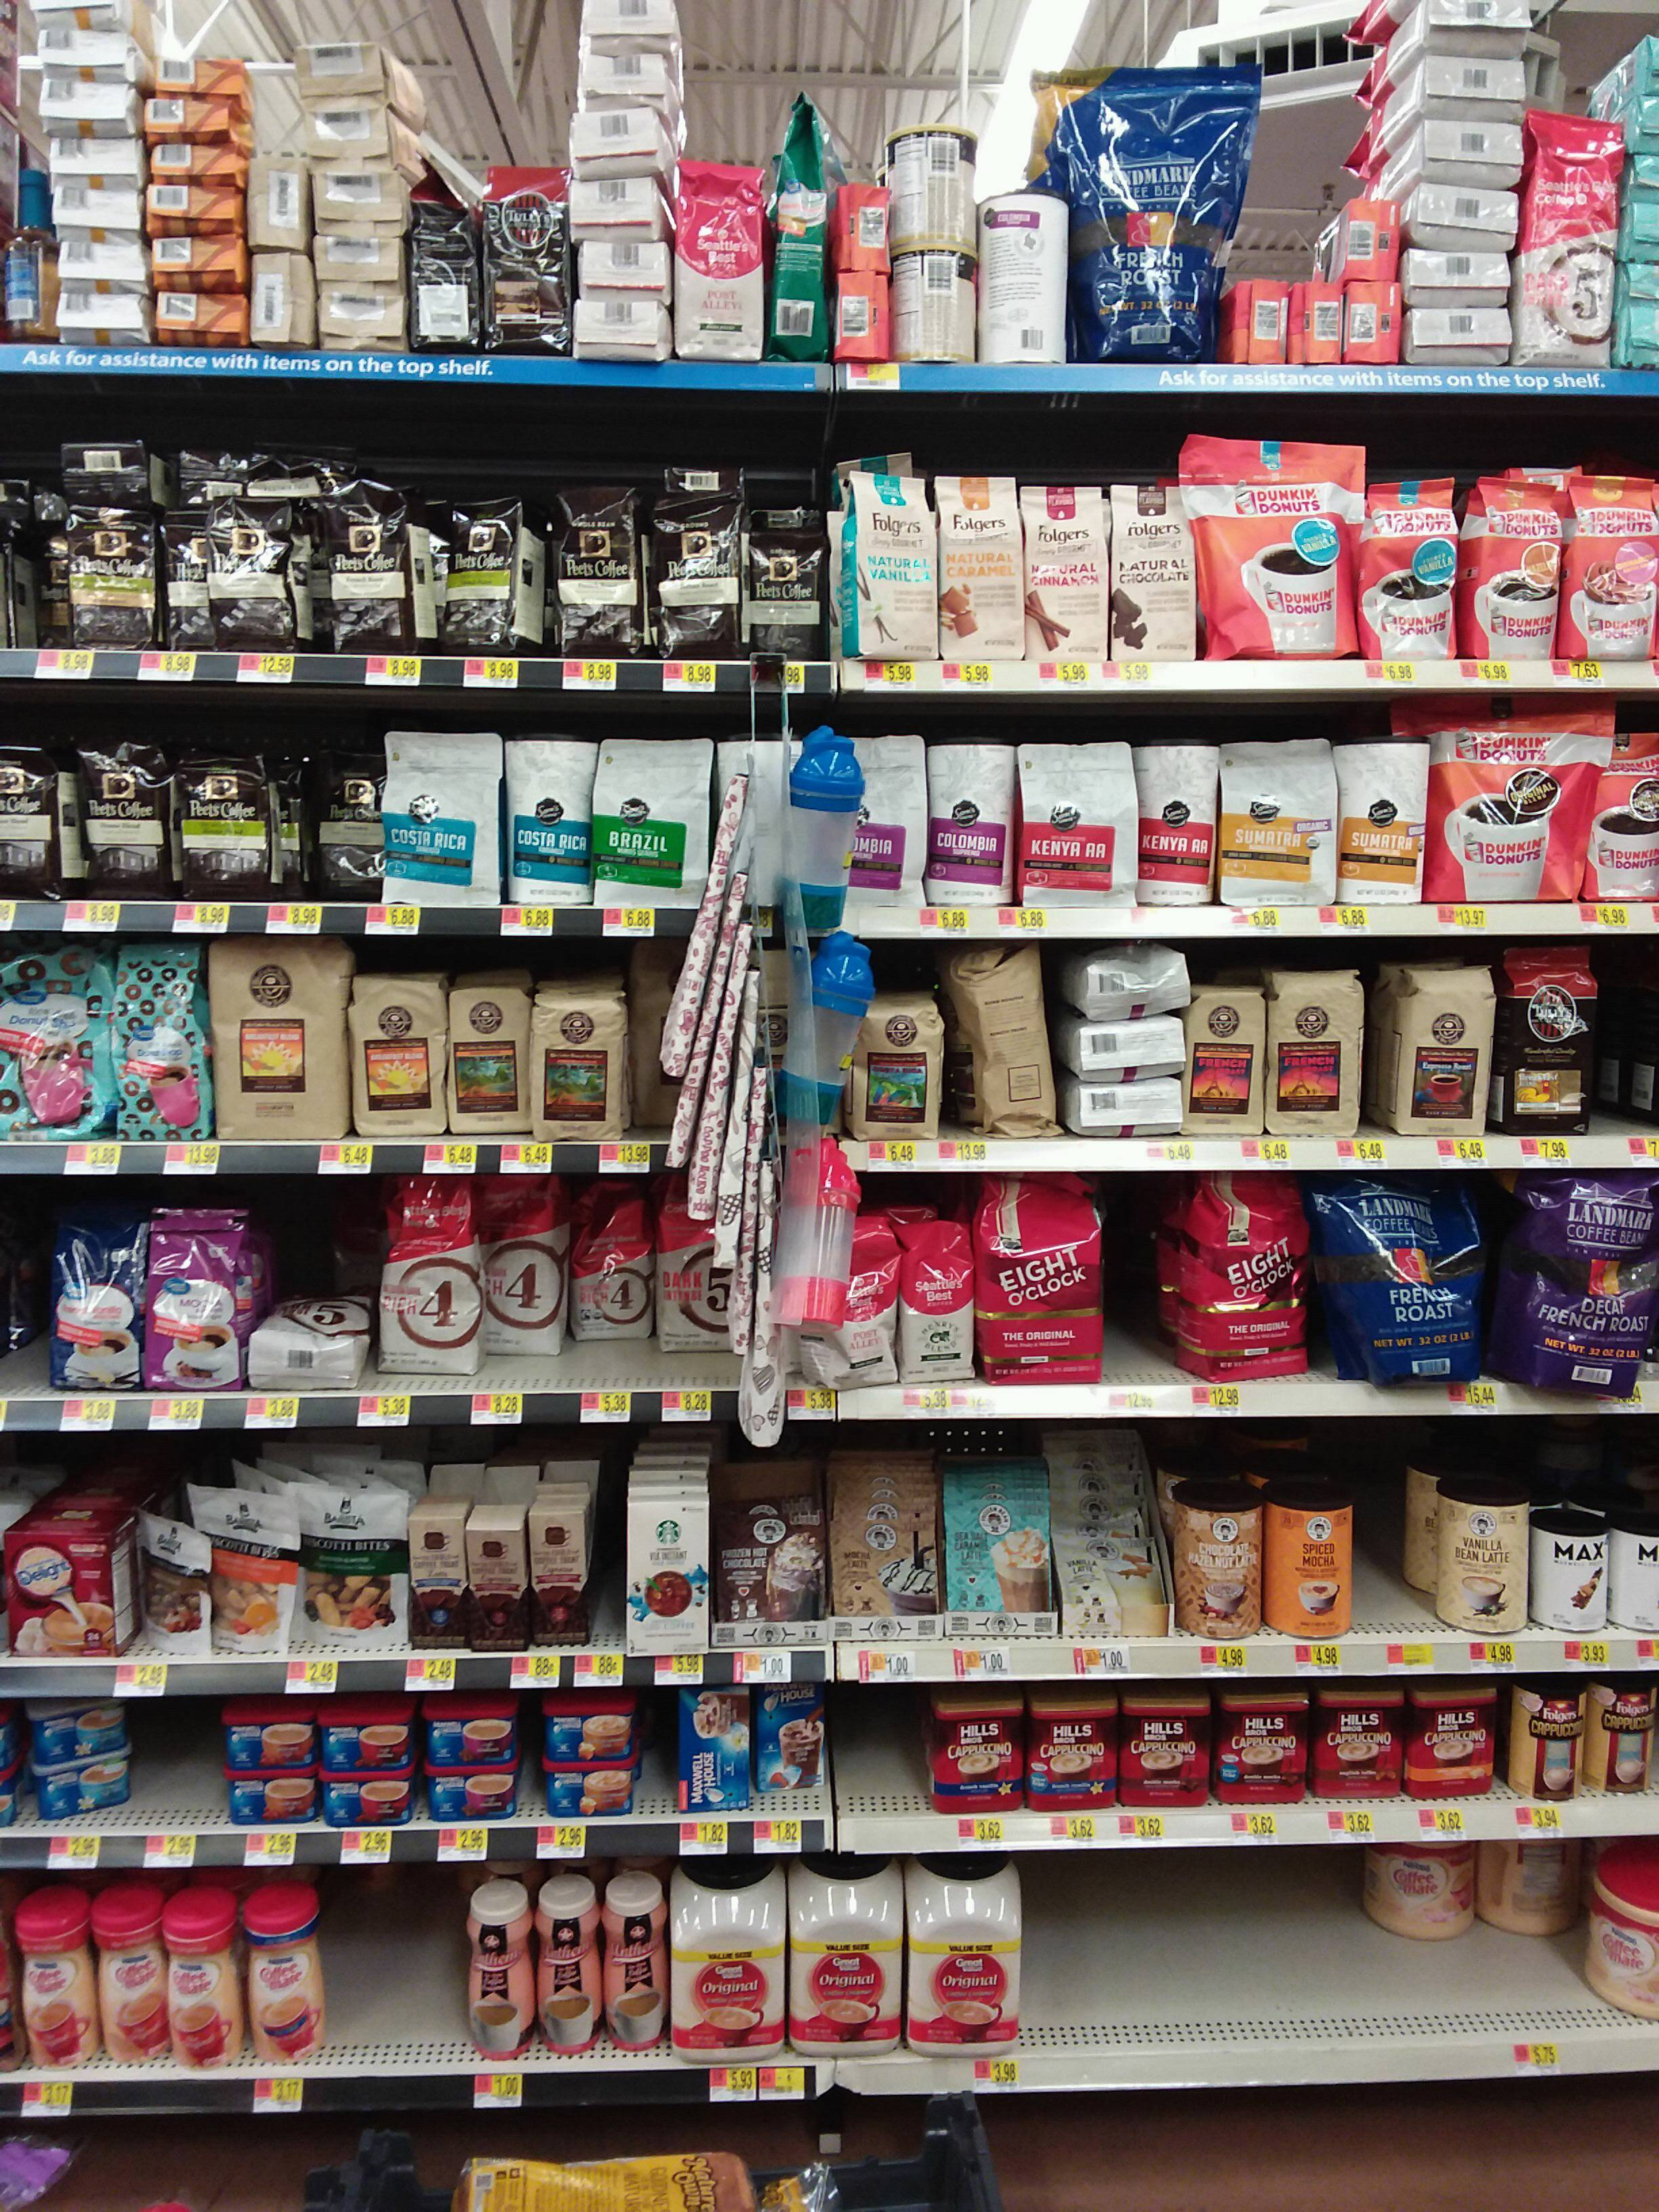product: (1068, 101, 1222, 368), (1188, 421, 1358, 657), (1312, 1170, 1495, 1385), (1432, 691, 1603, 904), (1511, 1163, 1659, 1404), (207, 928, 350, 1151), (981, 1174, 1112, 1383), (1178, 1170, 1302, 1379), (899, 1850, 1018, 2060), (1053, 1414, 1161, 1644), (784, 1848, 899, 2060), (671, 1850, 784, 2064), (814, 1458, 938, 1653), (1528, 101, 1614, 376), (798, 733, 920, 923), (591, 742, 721, 918), (1011, 725, 1134, 909), (1227, 716, 1335, 920), (936, 1456, 1053, 1644), (951, 960, 1070, 1139), (835, 465, 938, 665), (380, 732, 495, 909), (2, 954, 113, 1137), (1460, 472, 1561, 665), (763, 87, 835, 361), (289, 1496, 408, 1658), (119, 930, 206, 1148), (382, 1176, 472, 1385), (408, 489, 521, 655), (167, 735, 277, 906), (1335, 716, 1434, 904), (1366, 472, 1462, 664), (146, 1204, 244, 1390), (1391, 963, 1492, 1143), (676, 162, 765, 366), (495, 732, 591, 920), (1134, 726, 1227, 920), (708, 1487, 814, 1655), (483, 153, 566, 366), (1565, 469, 1659, 655), (472, 1174, 554, 1386), (800, 1211, 896, 1390), (1025, 467, 1114, 660), (284, 732, 382, 907), (45, 1217, 145, 1390), (354, 967, 448, 1143), (936, 469, 1019, 665), (1169, 1468, 1260, 1648), (75, 732, 167, 907), (406, 153, 481, 368), (659, 1162, 739, 1360), (640, 502, 739, 660), (838, 1001, 945, 1150), (52, 512, 162, 655), (758, 953, 838, 1148), (319, 484, 410, 657), (929, 730, 1011, 909), (1509, 951, 1591, 1130), (246, 1881, 326, 2064), (1432, 1477, 1527, 1632), (162, 1888, 246, 2062), (981, 192, 1061, 373), (448, 974, 533, 1143), (10, 1897, 96, 2066), (1112, 475, 1188, 664), (1265, 977, 1354, 1137), (209, 500, 303, 650), (559, 479, 638, 658), (610, 965, 688, 1143), (626, 1493, 709, 1658), (723, 737, 798, 921), (5, 1524, 105, 1660), (1262, 1470, 1337, 1649), (206, 1496, 288, 1658), (467, 1883, 538, 2066), (605, 1871, 673, 2062), (741, 502, 821, 664), (533, 975, 610, 1143), (1582, 1853, 1659, 2020), (896, 1228, 971, 1393), (538, 1878, 601, 2066), (1215, 1688, 1309, 1811), (254, 1284, 364, 1388), (96, 1888, 160, 2066), (936, 1695, 1028, 1818), (1408, 1681, 1502, 1801), (1310, 1684, 1403, 1804), (1030, 1698, 1121, 1820), (132, 1507, 206, 1655), (1119, 1695, 1213, 1810), (1528, 1515, 1617, 1634), (525, 1496, 593, 1649), (890, 127, 974, 249), (174, 435, 350, 493), (1201, 988, 1267, 1137), (889, 249, 972, 364), (1518, 1681, 1593, 1808), (681, 1686, 746, 1825), (1591, 1667, 1656, 1806), (580, 1184, 641, 1329), (1387, 1841, 1480, 1935), (462, 1517, 526, 1651), (51, 432, 164, 507), (307, 157, 410, 237), (410, 1519, 464, 1660), (1485, 1838, 1568, 1926), (1422, 52, 1525, 120), (1080, 1015, 1190, 1078), (1073, 1080, 1188, 1139), (1080, 958, 1190, 1017), (589, 294, 671, 369), (30, 1700, 136, 1757), (1227, 266, 1286, 369), (572, 172, 660, 240), (532, 1759, 636, 1817), (1403, 296, 1493, 362), (1342, 197, 1408, 287), (1419, 178, 1509, 242), (1420, 122, 1525, 178), (35, 1759, 136, 1817), (167, 512, 209, 650), (51, 228, 145, 289), (767, 1689, 826, 1785), (148, 233, 244, 293), (838, 169, 892, 273), (1401, 244, 1506, 298), (572, 239, 673, 294), (305, 96, 396, 157), (1342, 280, 1403, 369), (249, 162, 307, 256), (573, 111, 664, 171), (836, 275, 894, 366), (230, 1712, 321, 1770), (249, 258, 307, 347), (319, 289, 394, 355), (322, 1719, 411, 1775), (427, 1716, 521, 1766), (47, 138, 141, 188), (295, 47, 396, 94), (49, 289, 139, 341), (47, 82, 138, 134), (1286, 280, 1340, 368), (545, 1710, 640, 1759), (143, 136, 240, 183), (239, 1770, 319, 1825), (434, 1766, 519, 1818), (157, 56, 258, 99), (321, 239, 406, 289), (1405, 21, 1541, 52), (150, 183, 240, 230), (328, 1777, 411, 1827), (152, 294, 244, 338), (37, 47, 139, 85), (143, 101, 253, 136), (52, 188, 139, 228), (667, 462, 748, 500)
